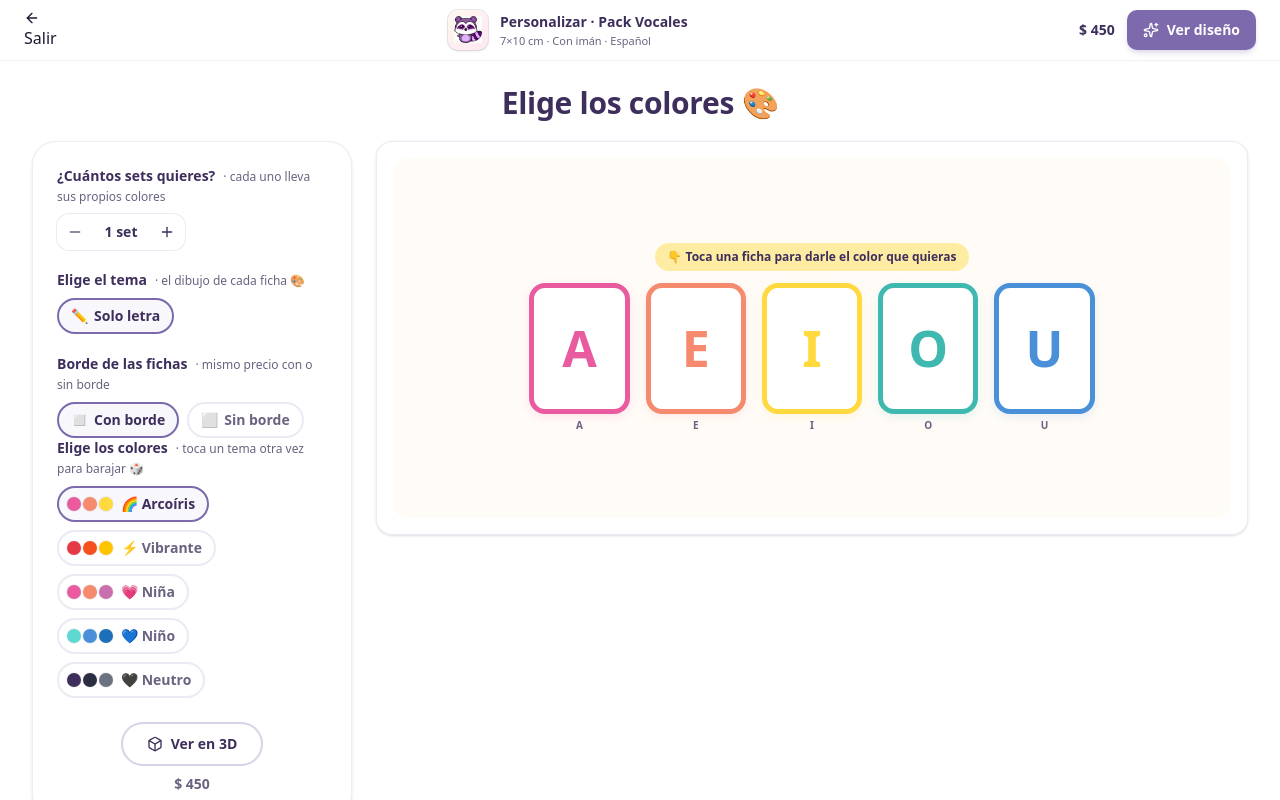
Test: LetterSetEditor — vista previa antes del carrito (Lucy 2026-07-25) › si el carrito falla, el mensaje se muestra DENTRO de la vista previa
The width and height of the screenshot is (1280, 800).
Click the button "Ver diseño" at (1191, 30), box 1127,10 -> 1256,50
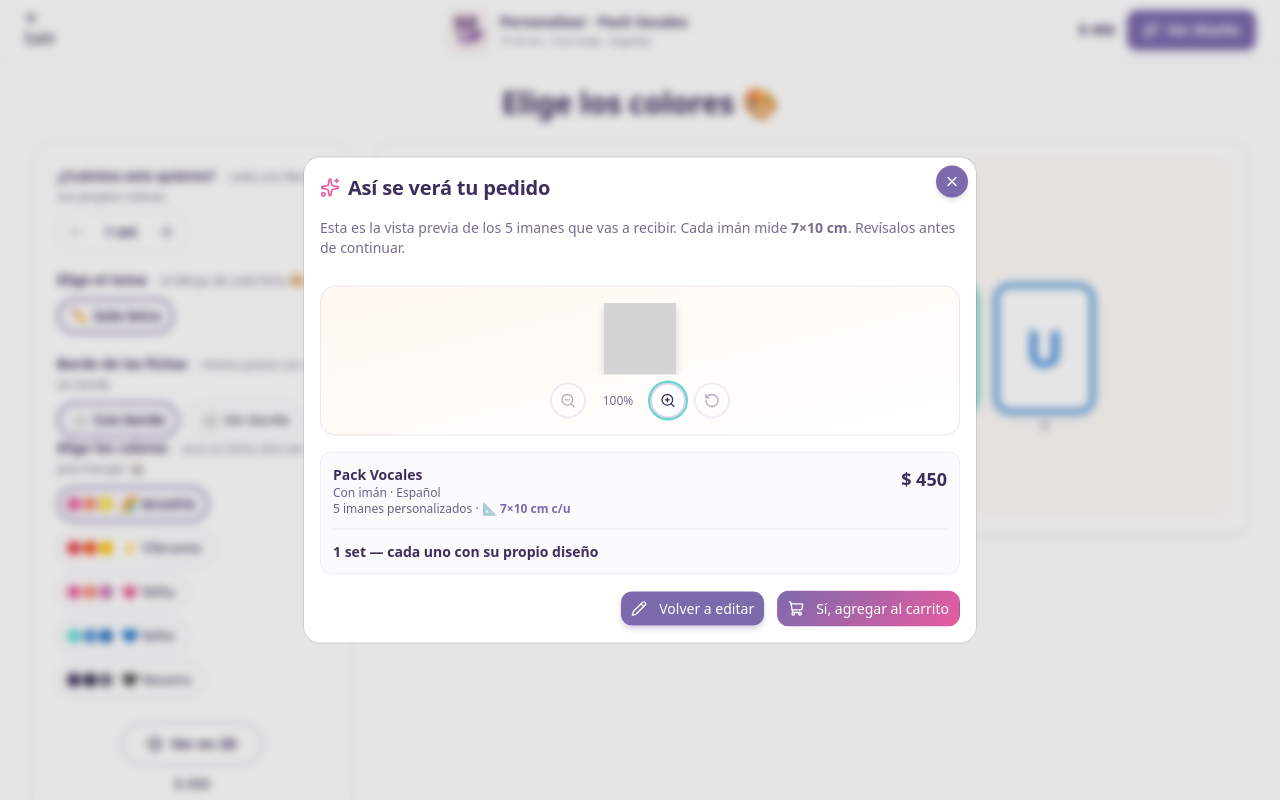
Check: the heading "Así se verá tu pedido" is shown, box 320,174 -> 550,200
Click the button "Sí, agregar al carrito" at (869, 608), box 777,590 -> 960,626
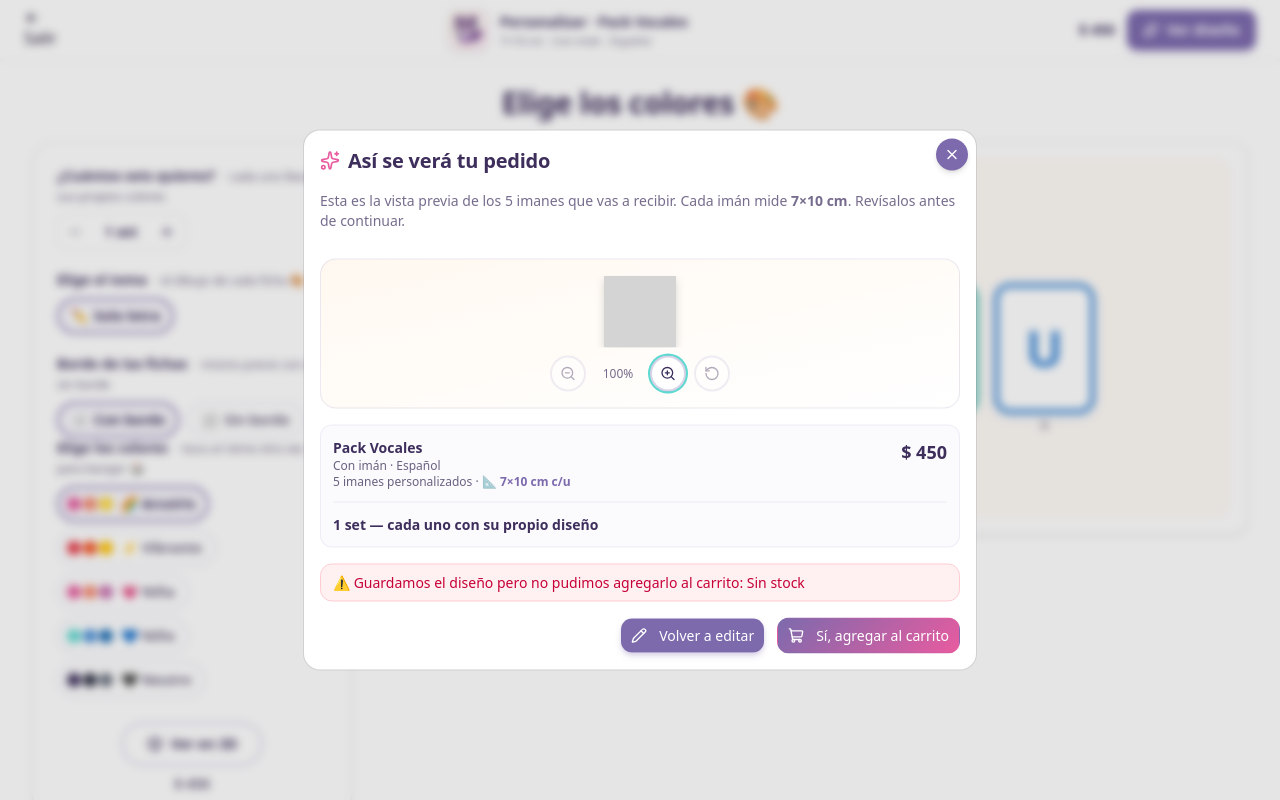
Check: the heading "Así se verá tu pedido" is shown, box 320,146 -> 550,174
Check: the text "no pudimos agregarlo al carrito: Sin stock" is shown, box 354,572 -> 805,592
